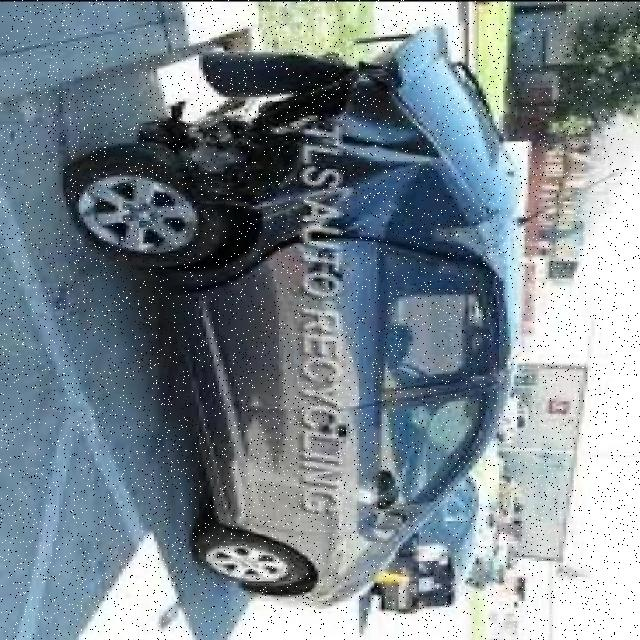damage: (148, 28, 495, 303)
